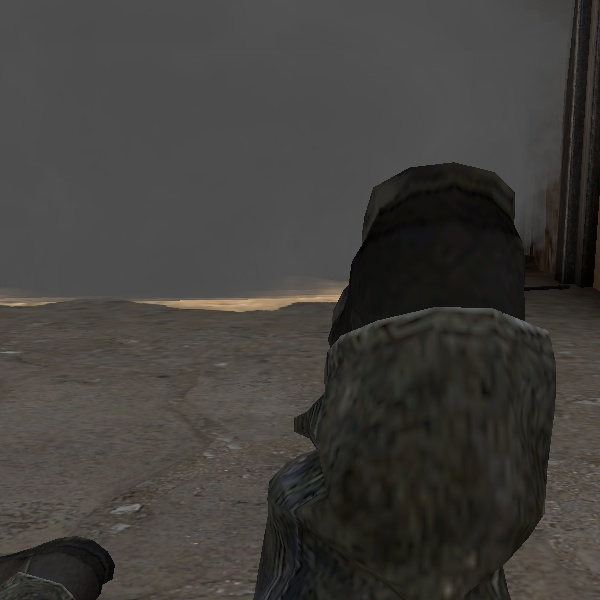ct_body: (237, 107, 593, 596)
ct_head: (319, 139, 558, 354)
